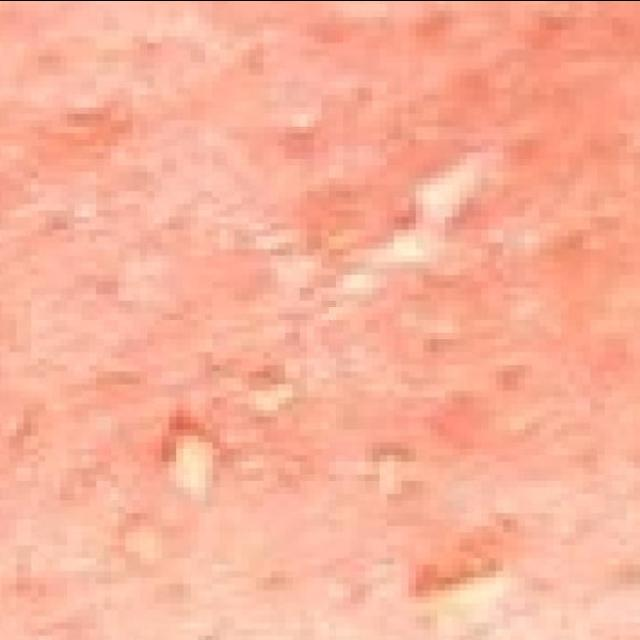whitehead: (108, 339, 546, 622)
